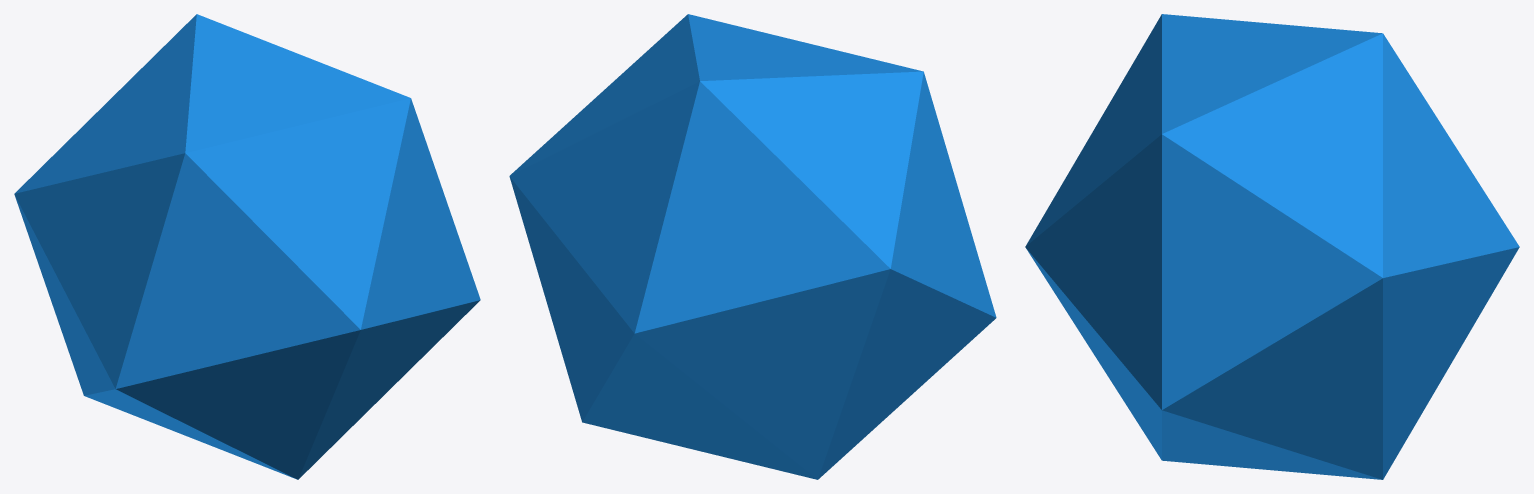
Rendered from AbstractBall.obj.
3 views of the same model, side by side, from view 1: azimuth 30°, elevation 25°; view 2: azimuth 150°, elevation 25°; view 3: azimuth 270°, elevation 25° (orthographic). The views are drawn at different scales.
Visible parts, largest first — view 1: obj_0; view 2: obj_0; view 3: obj_0.
Boxes of the visible parts, x1,y1,x2,y2 form: obj_0: (14,14,480,479); obj_0: (509,14,996,479); obj_0: (1025,14,1519,479).
Bounding box in the file's own units: 40 × 41 × 43.
